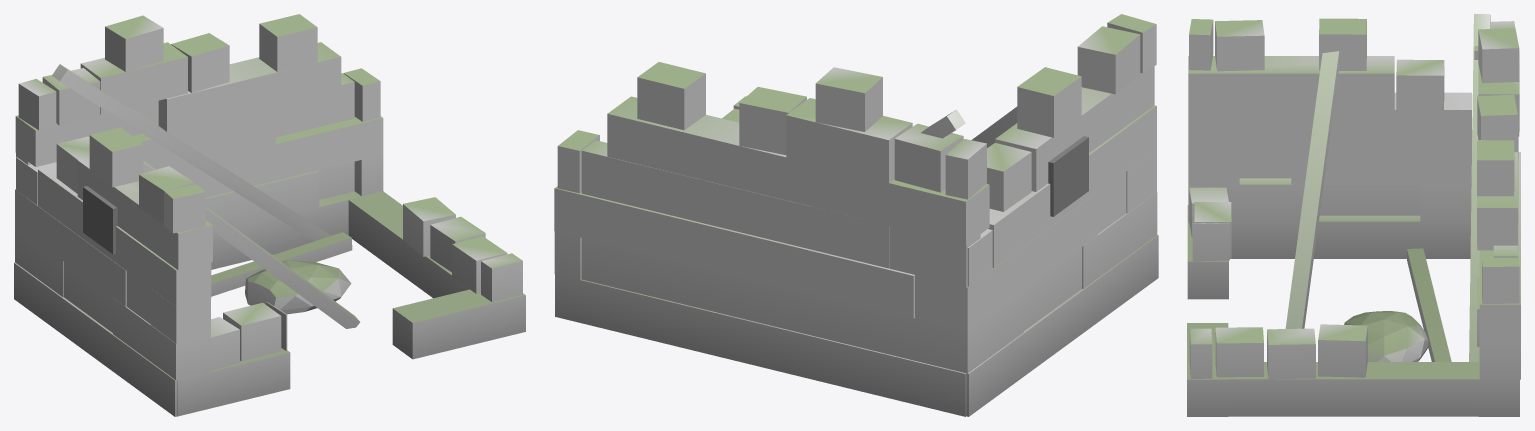
The model's file is house_broken.glb.
3 renders of one model, left to right at view 1: azimuth 30°, elevation 25°; view 2: azimuth 150°, elevation 25°; view 3: azimuth 270°, elevation 25°, orthographic. The views are drawn at different scales.
Visible parts, largest first — view 1: house_broken; view 2: house_broken; view 3: house_broken.
Part boxes in pixels (x1,y1,x2,y2): house_broken: (14,14,525,416); house_broken: (554,14,1158,416); house_broken: (1187,14,1520,416).
Size of the model in its own units: 4.04 by 2.76 by 3.23.
